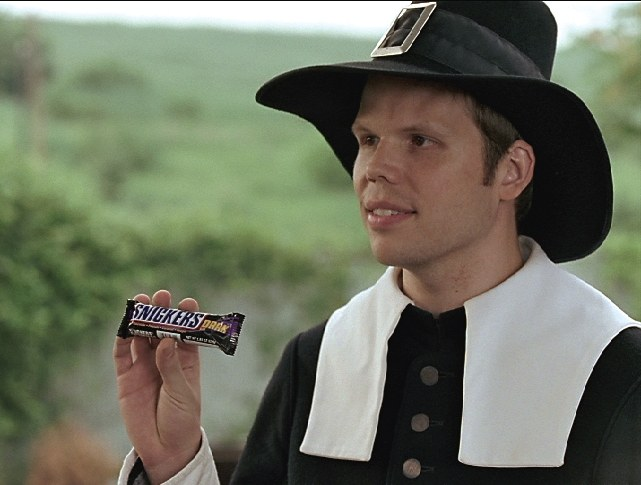snickers: (132, 300, 201, 326)
